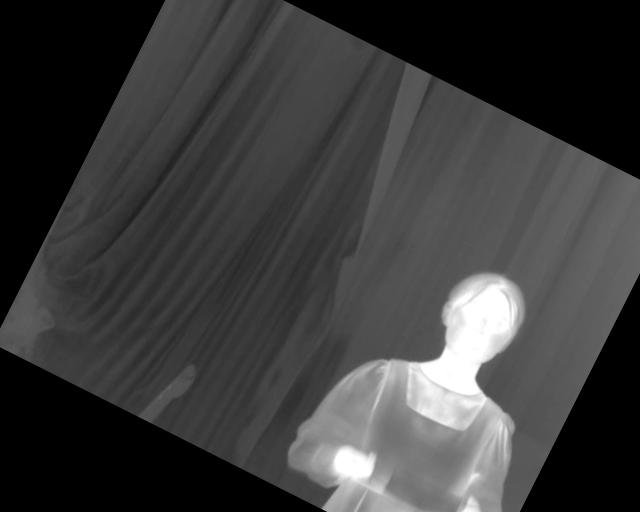face: (422, 254, 539, 378)
